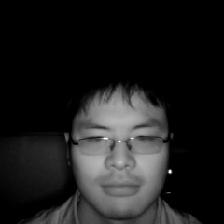normal: (48, 68, 184, 220)
